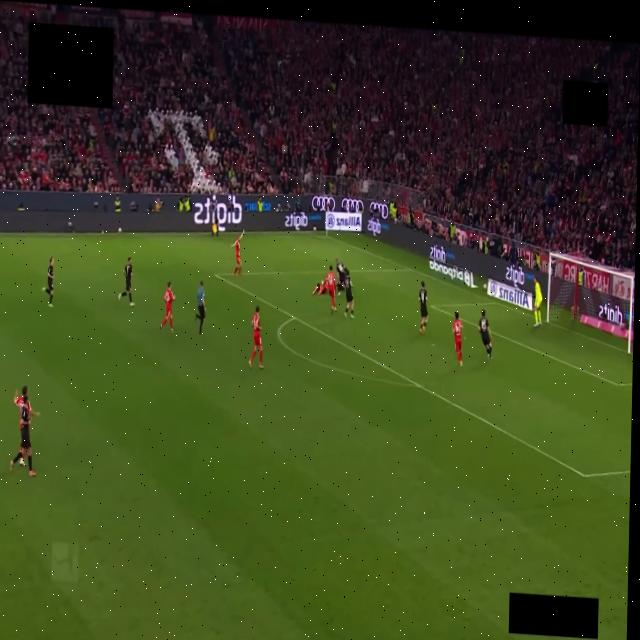player: (10, 388, 35, 476), (248, 306, 262, 369), (13, 386, 38, 416), (159, 283, 174, 332), (477, 310, 491, 360), (118, 257, 132, 306), (452, 312, 464, 367), (342, 269, 353, 318), (325, 266, 336, 314), (231, 232, 243, 275), (43, 257, 53, 307), (418, 281, 427, 334), (533, 276, 542, 327), (336, 259, 345, 294), (312, 280, 324, 295)
referee: (195, 281, 204, 334)
